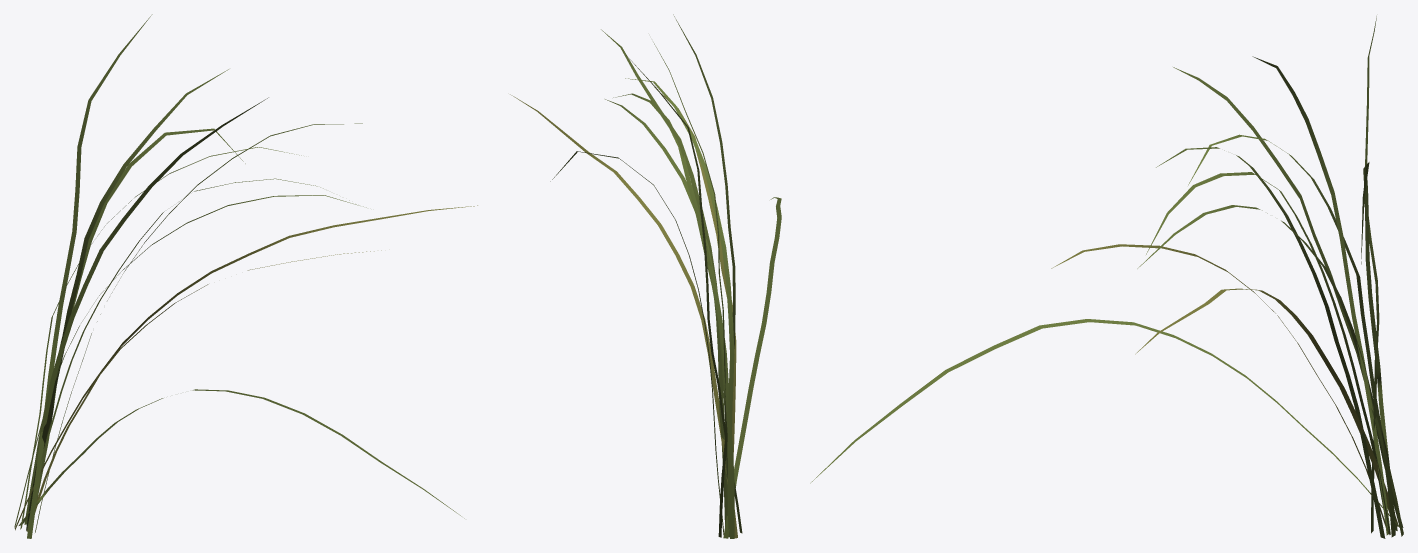
The model's file is capim_2_muito_longe.glb.
3 renders of one model, left to right at view 1: azimuth 30°, elevation 25°; view 2: azimuth 150°, elevation 25°; view 3: azimuth 270°, elevation 25°, orthographic. The views are drawn at different scales.
Visible parts, largest first — view 1: capim_2_muito_longe; view 2: capim_2_muito_longe; view 3: capim_2_muito_longe.
Part boxes in pixels (bbox=[...]): capim_2_muito_longe: bbox=[14, 14, 477, 538]; capim_2_muito_longe: bbox=[510, 14, 781, 538]; capim_2_muito_longe: bbox=[810, 16, 1403, 538].
Bounding box in the file's own units: 0.8078 × 1.06 × 0.9682.
